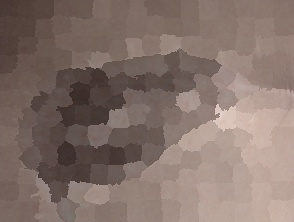vitiligo: (0, 32, 273, 222)
